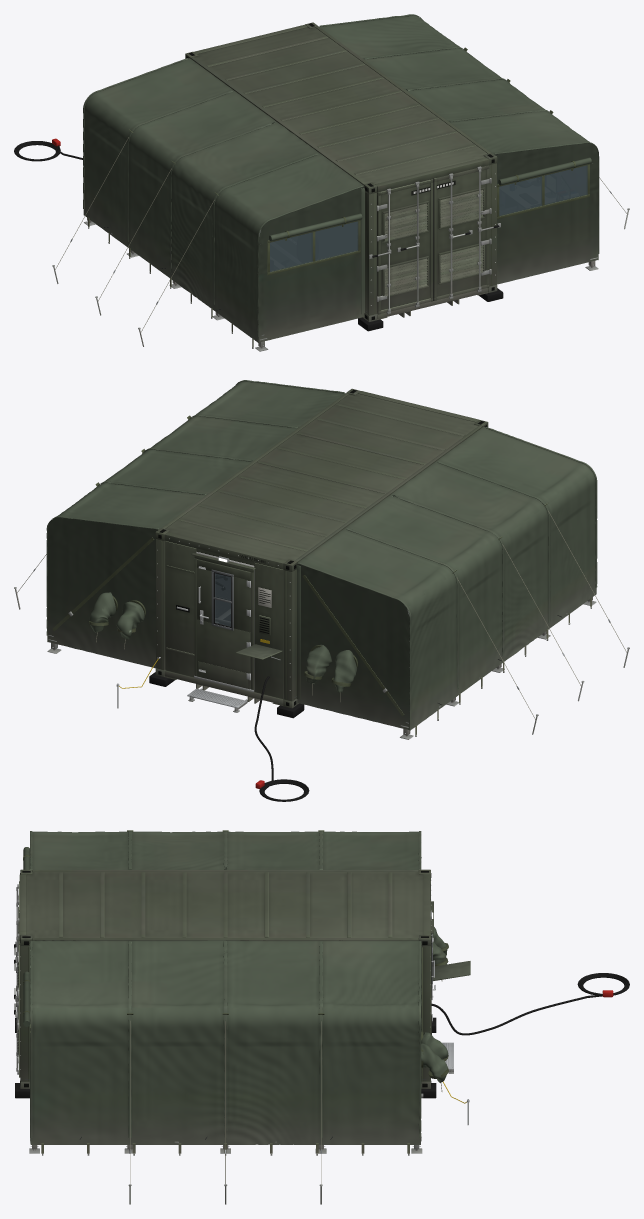
File: mecc-deployed-fitted.glb
The picture shows the model from 3 angles, top to bottom: view 1: azimuth 30°, elevation 25°; view 2: azimuth 150°, elevation 25°; view 3: azimuth 270°, elevation 25°; orthographic projection. The views are drawn at different scales.
Parts seen in each view (by area): view 1: MECC_expansion_L, MECC_core, MECC_expansion_R, MECC_site_kit; view 2: MECC_expansion_L, MECC_core, MECC_expansion_R, MECC_site_kit; view 3: MECC_expansion_R, MECC_core, MECC_expansion_L, MECC_site_kit.
Part boxes in pixels (x1,y1,x2,y2): MECC_expansion_L: (52, 58, 364, 351); MECC_core: (185, 22, 503, 331); MECC_expansion_R: (319, 14, 629, 284); MECC_site_kit: (14, 138, 82, 161); MECC_expansion_L: (296, 427, 629, 739); MECC_core: (149, 388, 488, 718); MECC_expansion_R: (14, 380, 345, 668); MECC_site_kit: (116, 657, 309, 801); MECC_expansion_R: (23, 940, 448, 1204); MECC_core: (14, 869, 470, 1098); MECC_expansion_L: (23, 830, 448, 981); MECC_site_kit: (431, 973, 629, 1125).
Size of the model in its own units: 9.34 by 2.86 by 9.09.
61 materials, 22 textured.
